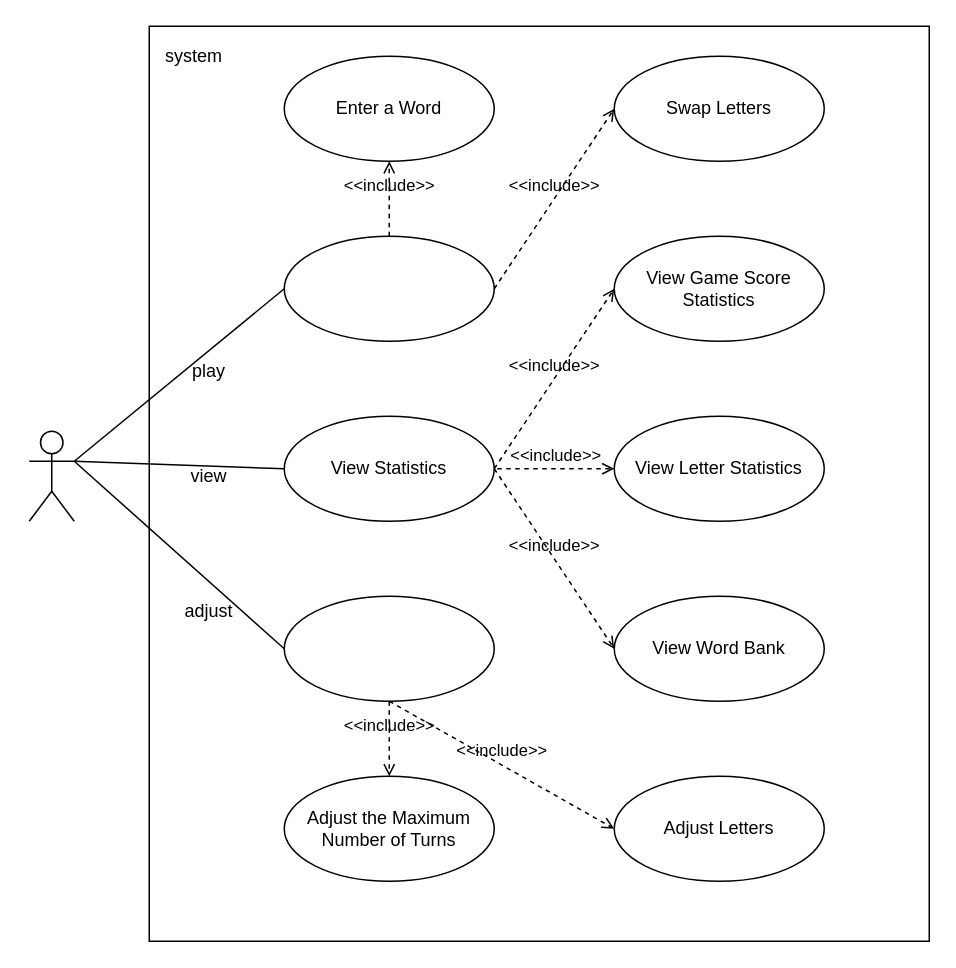
The diagram is 956 pixels wide and 968 high, and some of its shapes have lost their labels. The shapes that lost their labels are listed below. From the top down, each one's box as (x1, y1, x2, y2) in pixels, then its label:
(283, 235, 494, 341): Play a Word Game
(28, 430, 74, 521): Player
(283, 595, 494, 701): Adjust Game Settings
